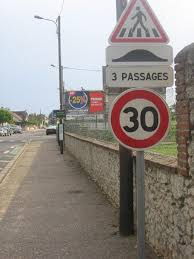Speed_limit_30km: (107, 88, 169, 150)
